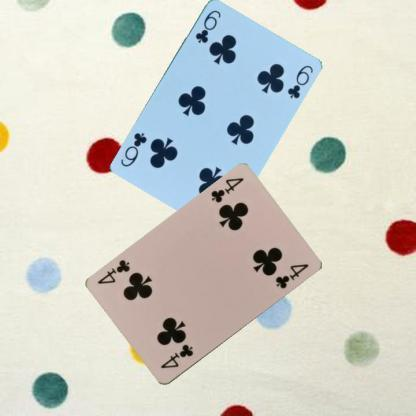4c: (208, 175, 245, 205), (158, 341, 194, 370)
6c: (192, 6, 223, 44)
